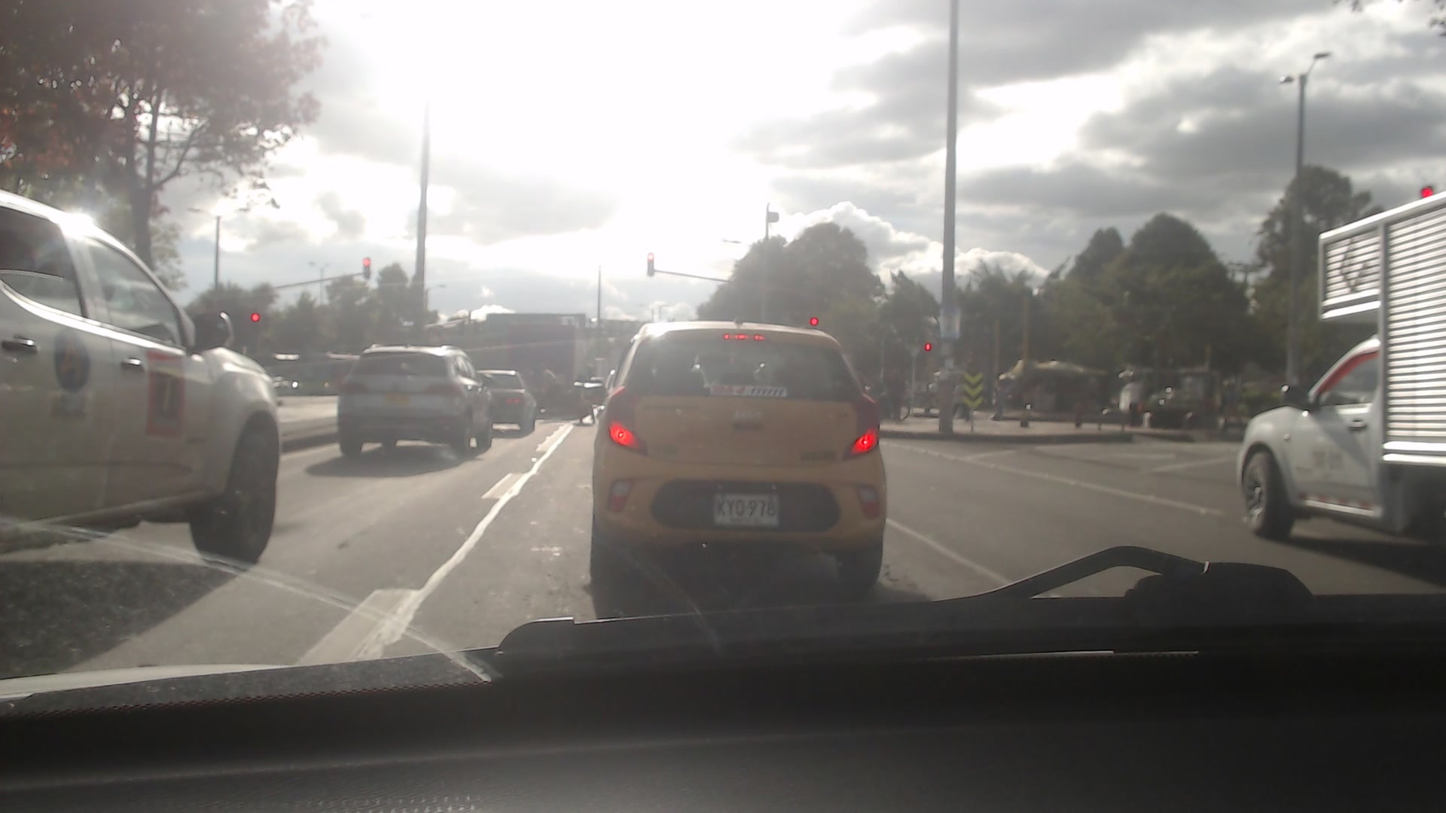car: (0, 184, 274, 572), (594, 323, 881, 575), (337, 344, 494, 457), (466, 368, 539, 435)
truck: (1241, 204, 1446, 538)
